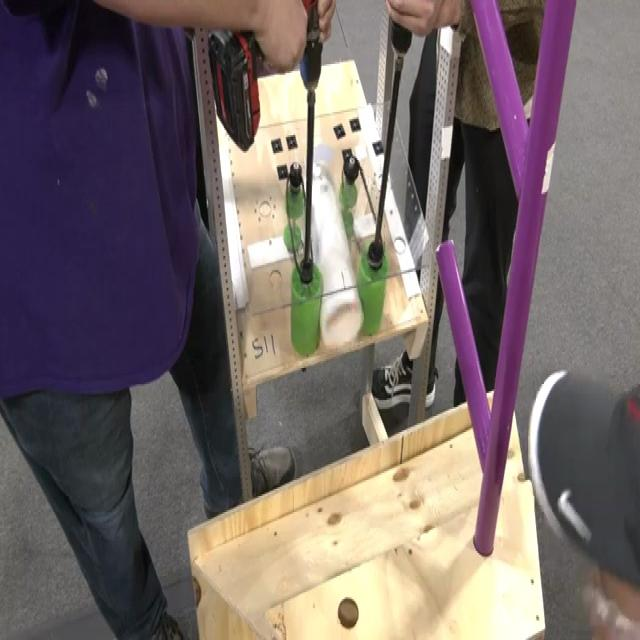Coral: (305, 160, 364, 348)
